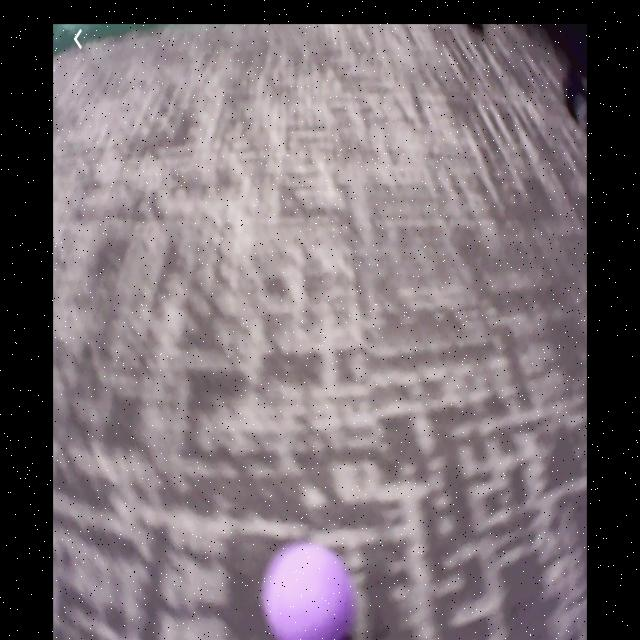ball: (264, 541, 348, 640)
